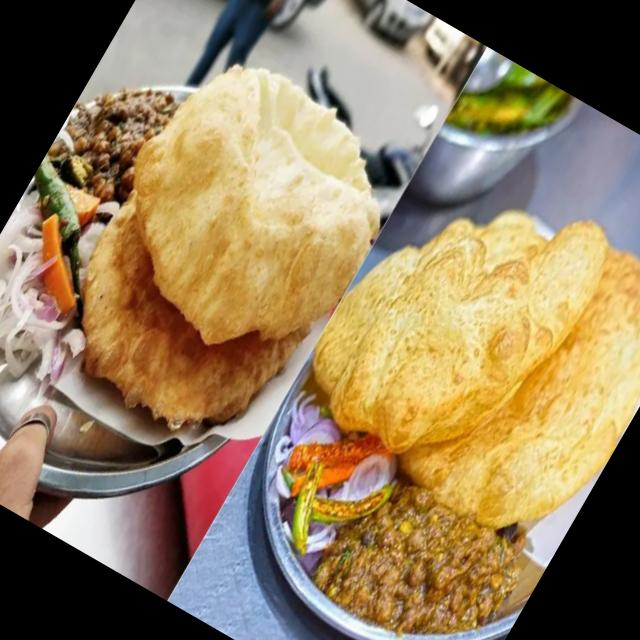Bhatura: (27, 34, 420, 469), (279, 135, 640, 564)
